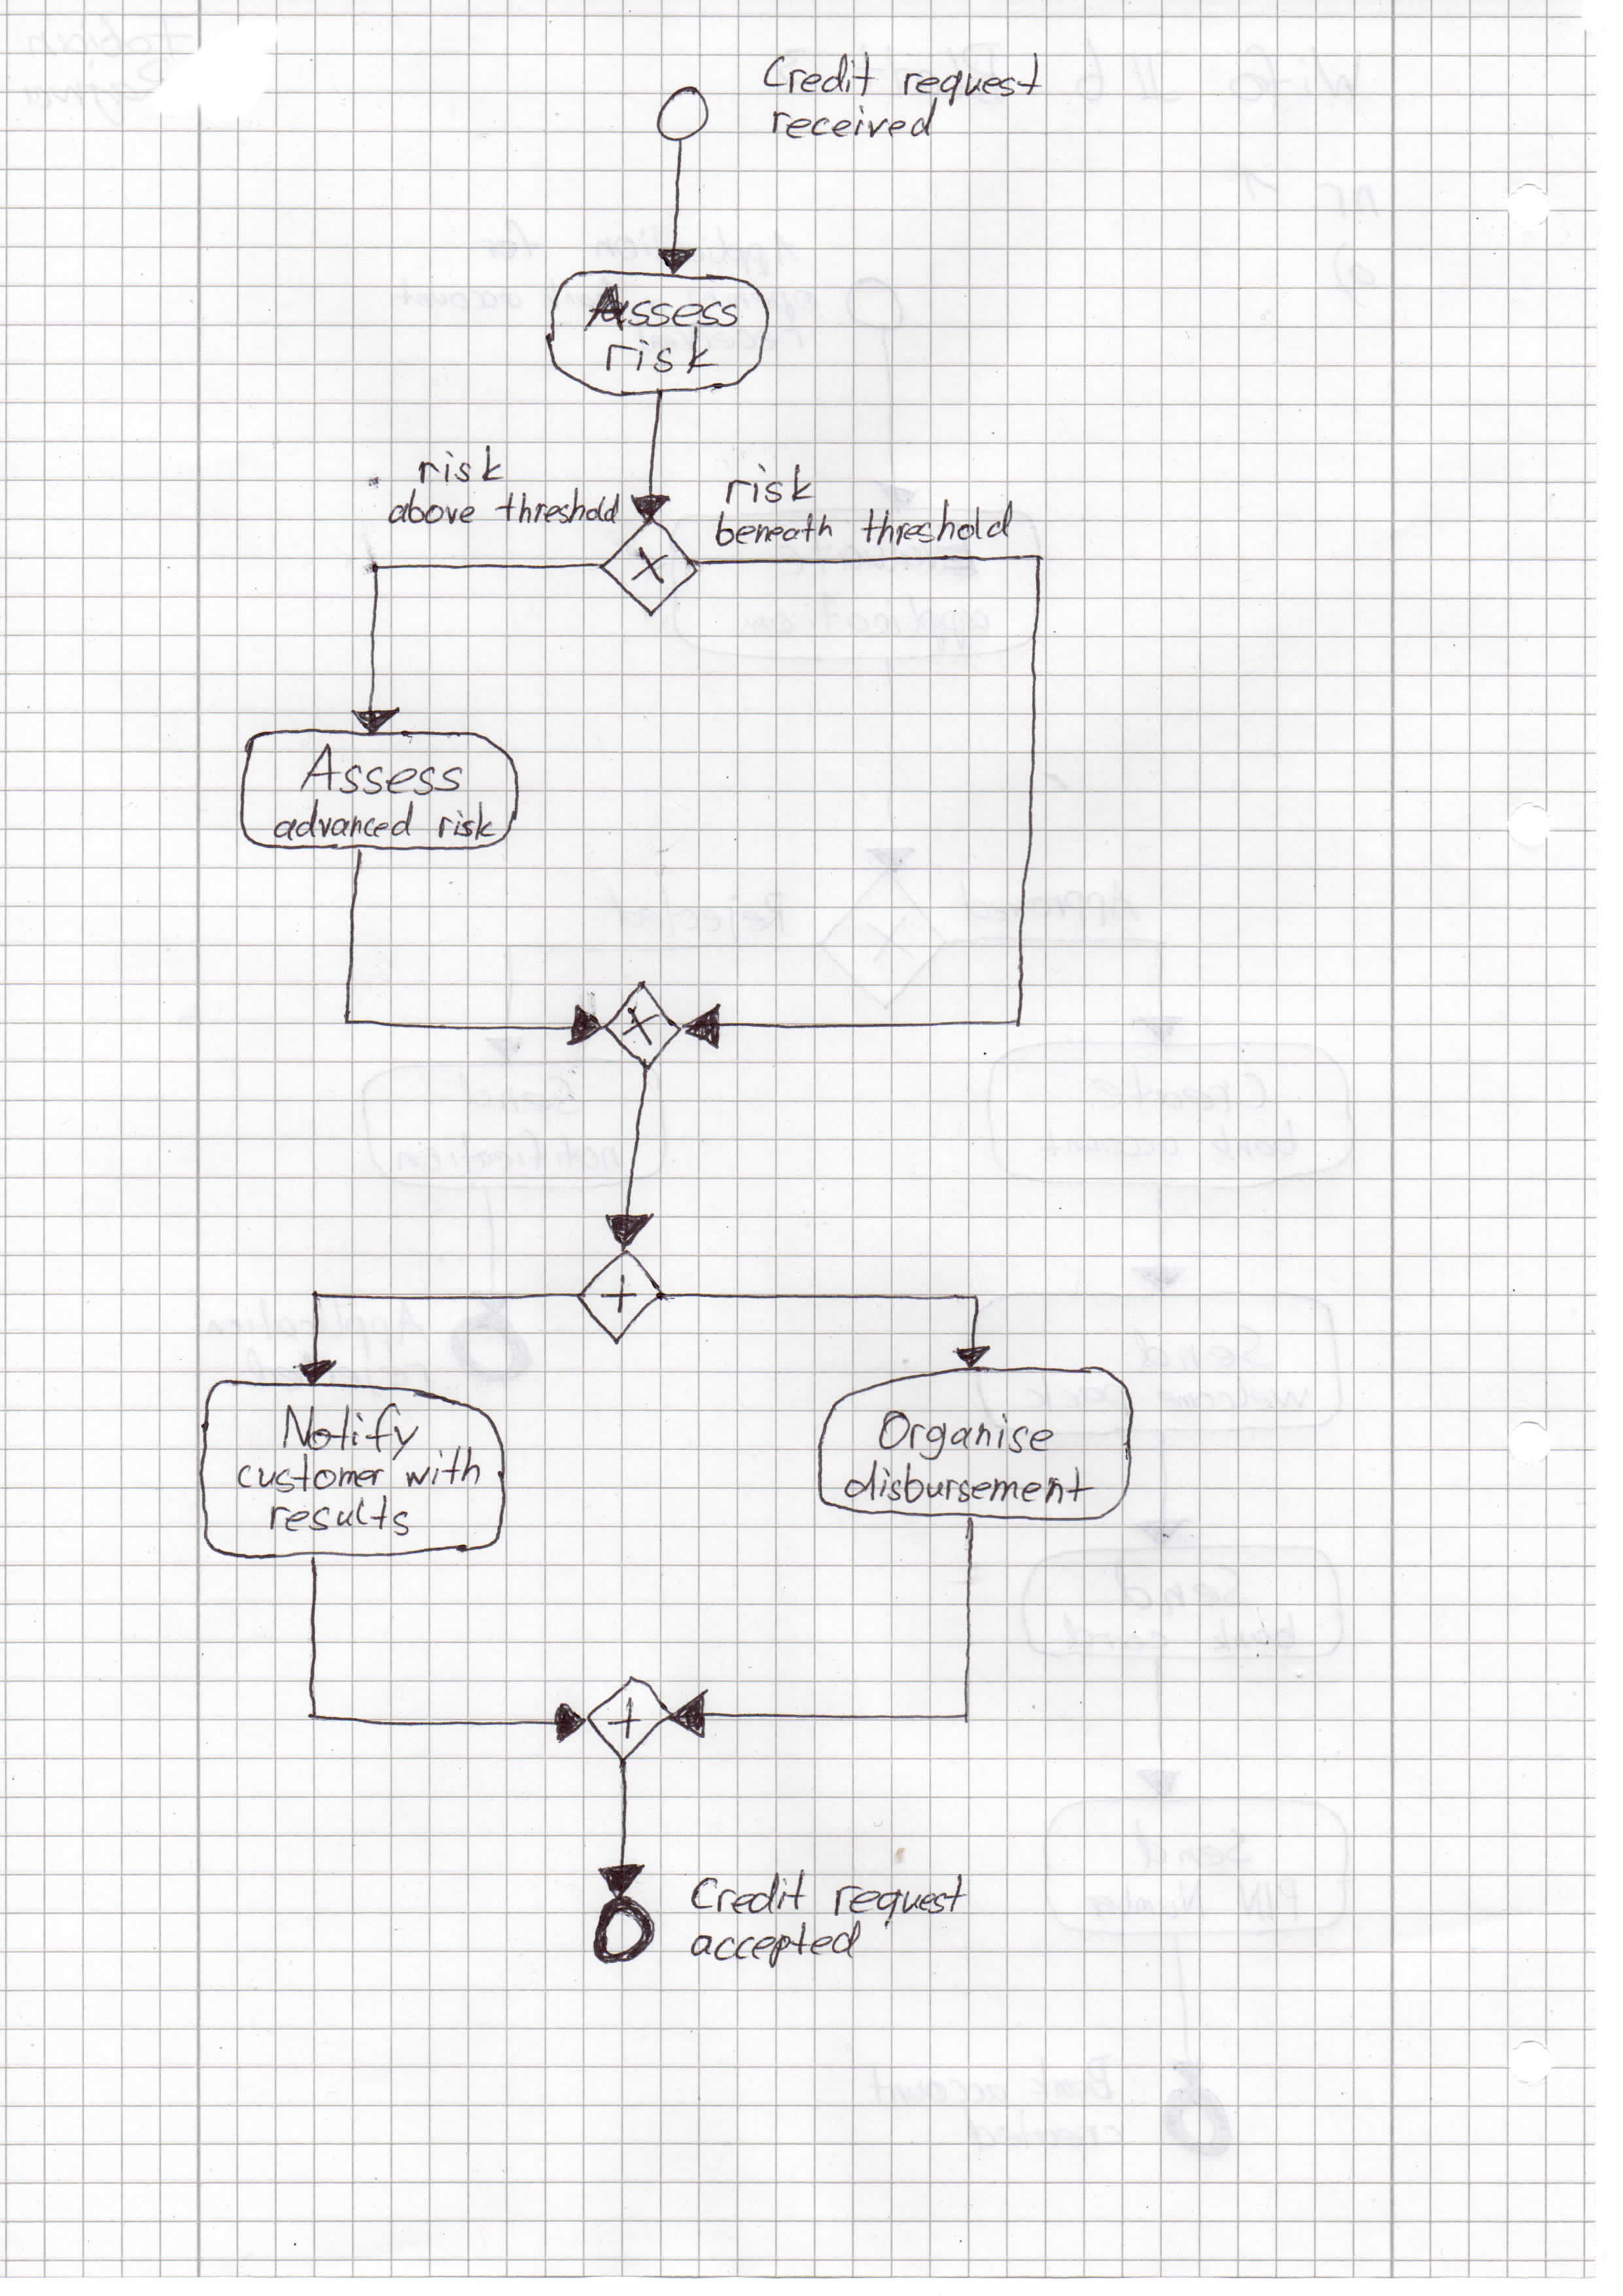Assess: (295, 740, 467, 801), (578, 279, 743, 337)
Credit: (689, 1866, 810, 1918), (759, 49, 882, 100)
Notify: (279, 1400, 422, 1463)
Organise: (875, 1409, 1057, 1465)
above: (385, 487, 480, 529)
accepted: (687, 1918, 866, 1973)
advanced: (269, 798, 416, 843)
beneath: (711, 508, 836, 550)
customer: (234, 1451, 388, 1497)
disbursement: (841, 1456, 1100, 1507)
received: (766, 93, 941, 144)
request: (898, 47, 1045, 109), (829, 1871, 971, 1932)
results: (267, 1491, 413, 1541)
risk: (601, 321, 724, 379), (413, 441, 509, 488), (722, 462, 819, 508), (436, 798, 501, 843)
threshold: (857, 497, 1015, 550), (492, 483, 624, 529)
with: (402, 1442, 485, 1490)
